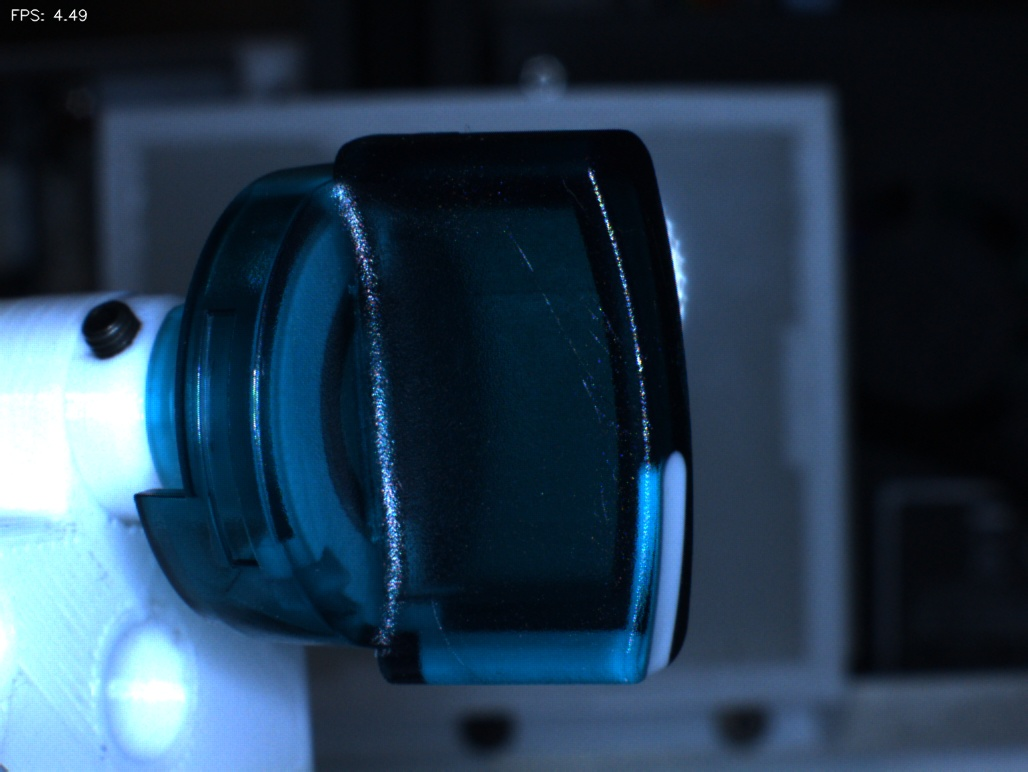Givrage: (507, 227, 634, 433)
